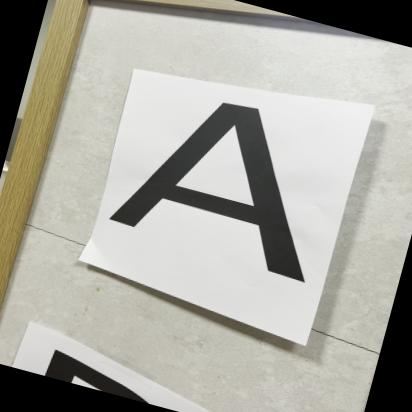seat: (104, 72, 350, 306)
